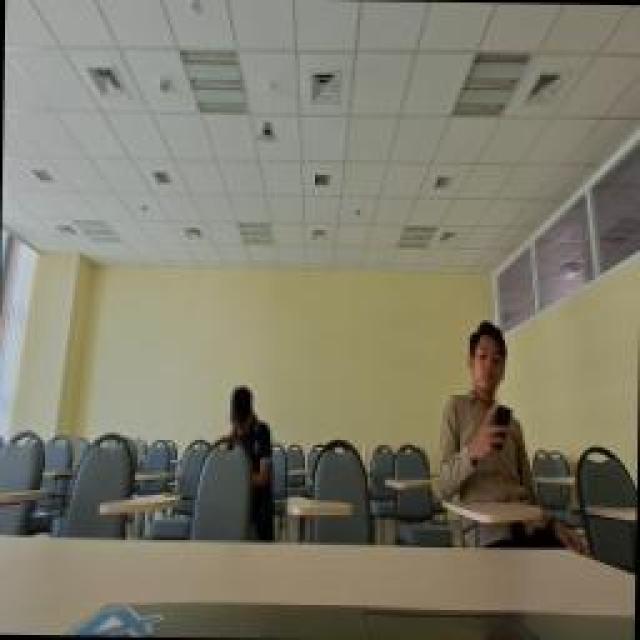phone: (435, 295, 537, 507)
study: (220, 380, 275, 485)
